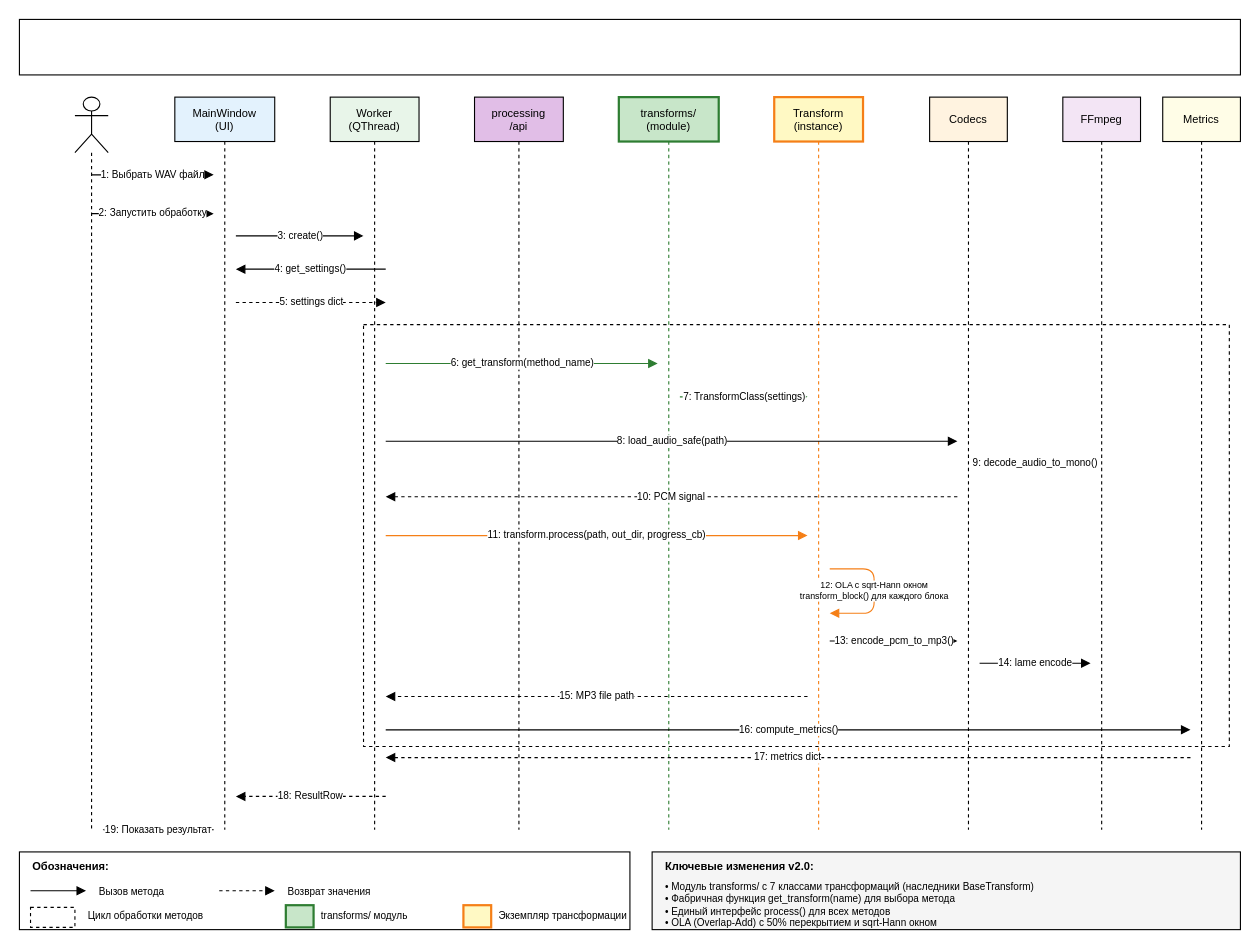
Image size: 1260x949. Some labels were removed from this diagram. The centre of each missing label's shape, as x and y in pixels:
loop: pixel 52 916
loop [для каждого из 7 методов]: pixel 795 535
Диаграмма последовательности процесса обработки аудио (v2.0) Лист 1 из 1: pixel 629 46
Пользователь: pixel 91 124
